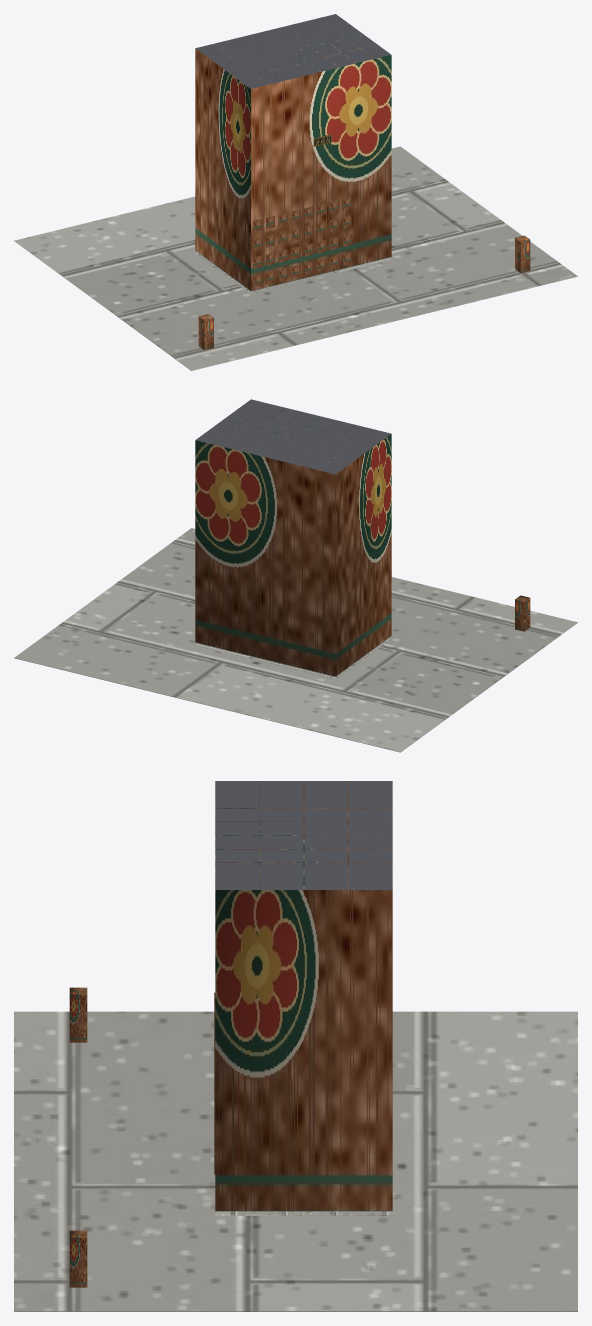
The picture shows the model from 3 angles, top to bottom: view 1: azimuth 30°, elevation 25°; view 2: azimuth 150°, elevation 25°; view 3: azimuth 270°, elevation 25°; orthographic projection. The views are drawn at different scales.
Parts seen in each view (by area): view 1: 11680_01_06158_041_01_L2__base, 11680_01_06158_041_02_L2__body, 11680_01_06158_041_03_L2__roof, 11680_01_06158_041_05_L2__openings, 11680_01_06158_041_06_L2__green; view 2: 11680_01_06158_041_01_L2__base, 11680_01_06158_041_02_L2__body, 11680_01_06158_041_03_L2__roof, 11680_01_06158_041_06_L2__green; view 3: 11680_01_06158_041_01_L2__base, 11680_01_06158_041_02_L2__body, 11680_01_06158_041_03_L2__roof, 11680_01_06158_041_06_L2__green.
Boxes of the visible parts, <box> form: 11680_01_06158_041_01_L2__base: <box>14,146,577,370</box>; 11680_01_06158_041_02_L2__body: <box>195,19,391,291</box>; 11680_01_06158_041_03_L2__roof: <box>196,14,390,88</box>; 11680_01_06158_041_05_L2__openings: <box>253,197,351,287</box>; 11680_01_06158_041_06_L2__green: <box>198,235,530,350</box>; 11680_01_06158_041_01_L2__base: <box>14,528,577,752</box>; 11680_01_06158_041_02_L2__body: <box>195,404,391,676</box>; 11680_01_06158_041_03_L2__roof: <box>196,399,390,474</box>; 11680_01_06158_041_06_L2__green: <box>515,595,530,631</box>; 11680_01_06158_041_01_L2__base: <box>14,1011,577,1311</box>; 11680_01_06158_041_02_L2__body: <box>215,781,392,1211</box>; 11680_01_06158_041_03_L2__roof: <box>215,781,392,889</box>; 11680_01_06158_041_06_L2__green: <box>69,987,87,1287</box>.
Size of the model in its own units: 88 by 44.72 by 70.
5 materials, 5 textured.
